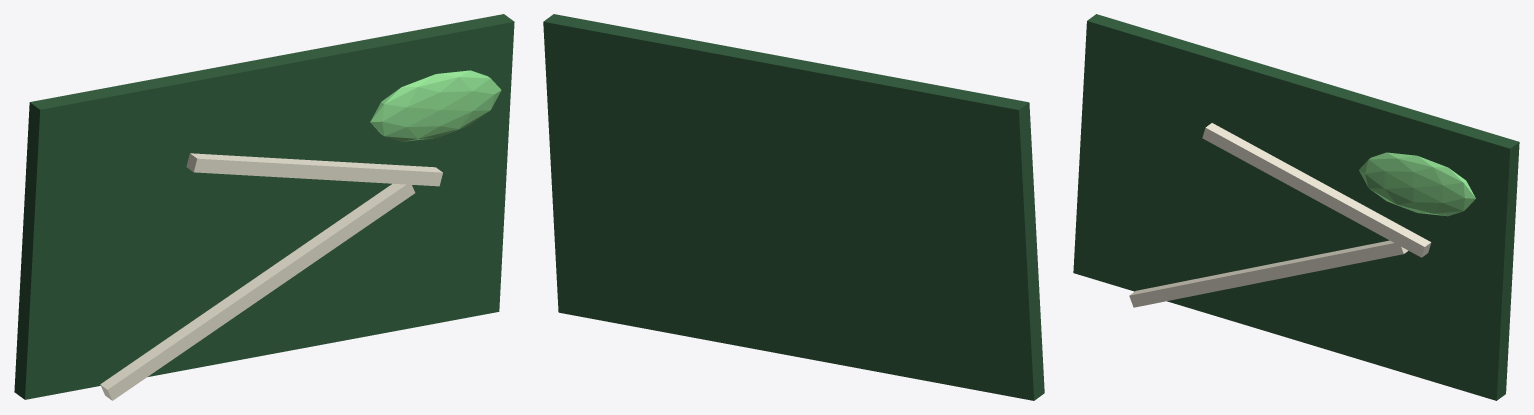
File: 02_weathering_wear_overlay_2.glb
3 views of the same model, side by side, from view 1: azimuth 30°, elevation 25°; view 2: azimuth 150°, elevation 25°; view 3: azimuth 330°, elevation 25° (orthographic). The views are drawn at different scales.
Visible parts, largest first — view 1: wear_plate, scratch_a, rust_or_moss_spot, scratch_b; view 2: wear_plate; view 3: wear_plate, rust_or_moss_spot, scratch_b, scratch_a.
Boxes of the visible parts, <box> form: wear_plate: <box>14,14,514,399</box>; scratch_a: <box>100,183,415,400</box>; rust_or_moss_spot: <box>370,70,501,141</box>; scratch_b: <box>186,153,442,186</box>; wear_plate: <box>543,14,1044,400</box>; wear_plate: <box>1073,14,1519,400</box>; rust_or_moss_spot: <box>1359,152,1475,216</box>; scratch_b: <box>1202,123,1431,257</box>; scratch_a: <box>1129,240,1408,307</box>.
Size of the model in its own units: 1.34 by 0.821 by 0.134.
